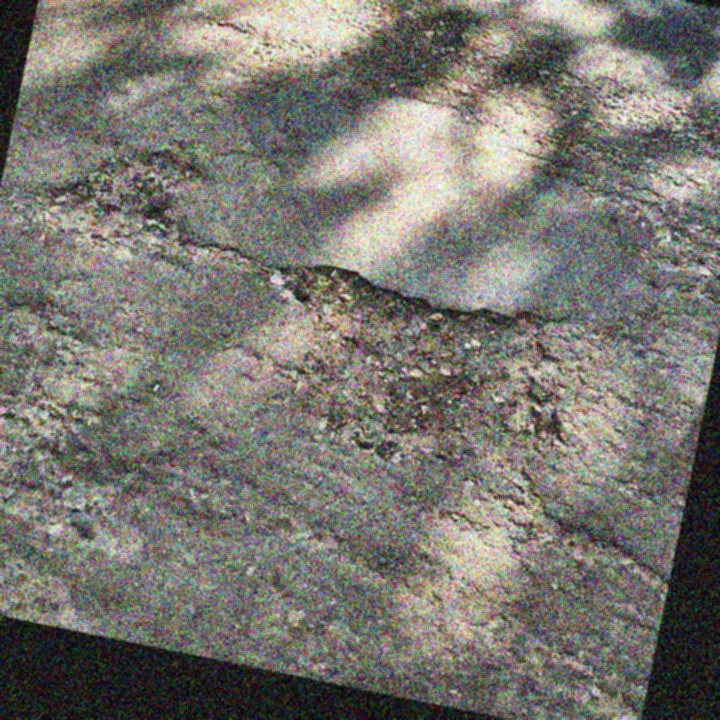pothole: (265, 251, 597, 505), (37, 123, 214, 274)
